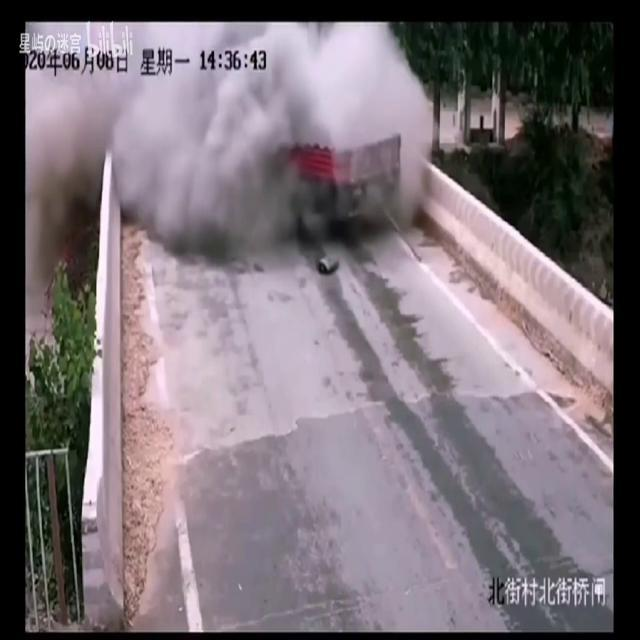multiple_accident: (87, 30, 454, 253)
